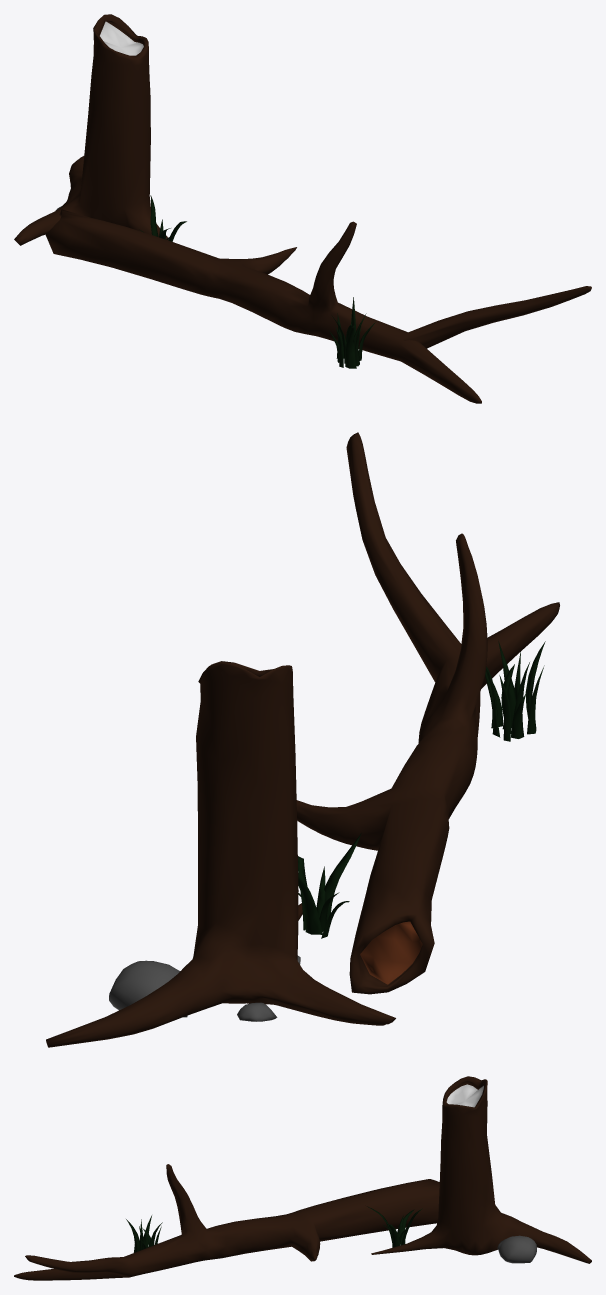
File: bench_broken.fbx
3 renders of one model, top to bottom at view 1: azimuth 30°, elevation 25°; view 2: azimuth 150°, elevation 25°; view 3: azimuth 270°, elevation 25°, orthographic. The views are drawn at different scales.
Parts seen in each view (by area): view 1: bench_broken; view 2: bench_broken; view 3: bench_broken.
Boxes of the visible parts, x1,y1,x2,y2 form: bench_broken: (14, 14, 591, 403); bench_broken: (46, 432, 559, 1047); bench_broken: (14, 1076, 591, 1280).
Bounding box in the file's own units: 325 × 659 × 210.
